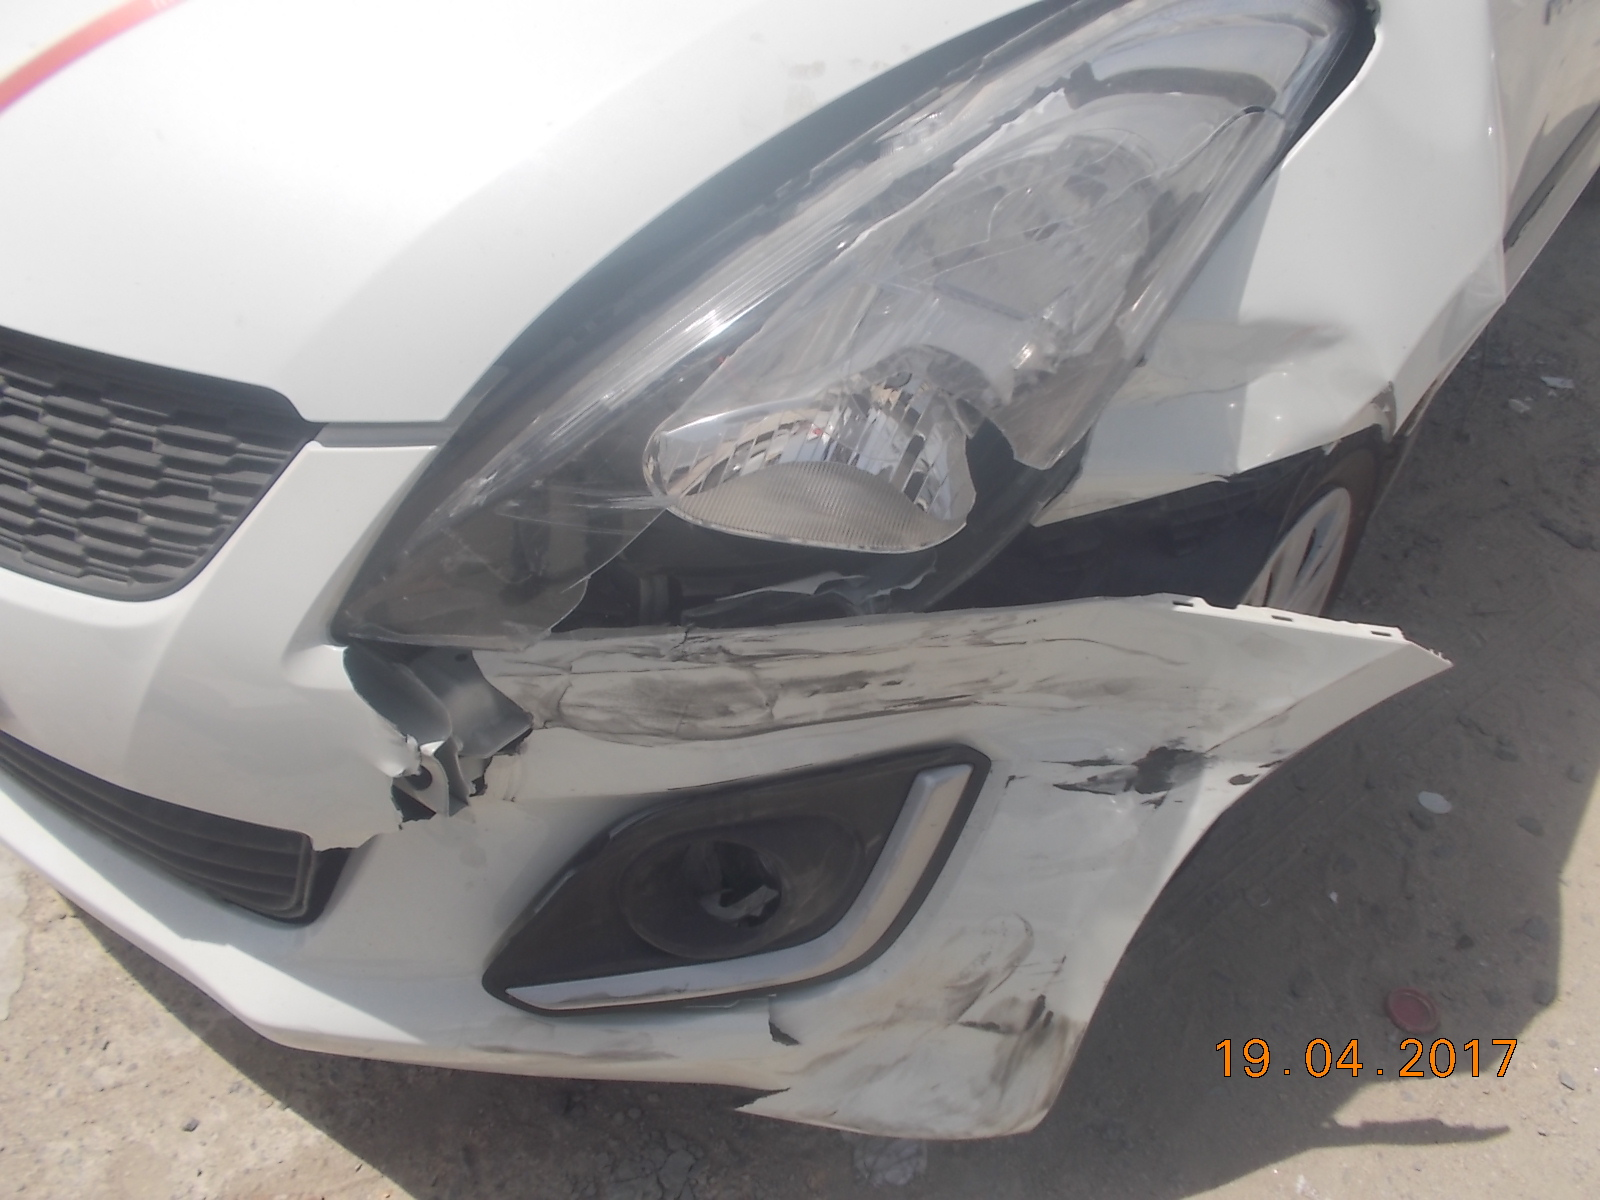Dislocation: (1026, 483, 1444, 664)
Scratch_or_spot: (556, 639, 1003, 734), (942, 934, 1052, 1070), (1073, 747, 1188, 824)
Tear: (289, 681, 454, 872)
